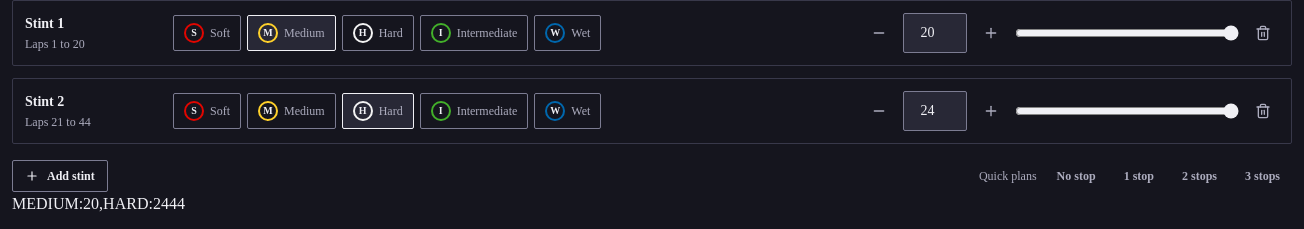
Test: StintEditor › removes a stint, but keeps the last one
Click the button named "Remove stint 1": (1263, 33) [1247,17,1279,49]
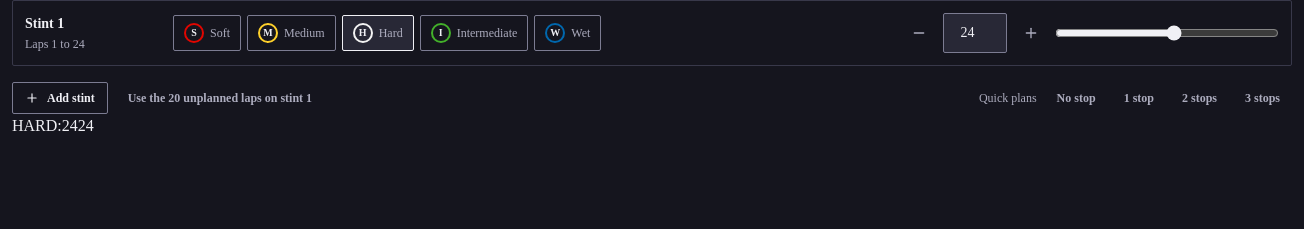
Result: the text named "plan" reads "HARD:24" at [12,117,78,134]
